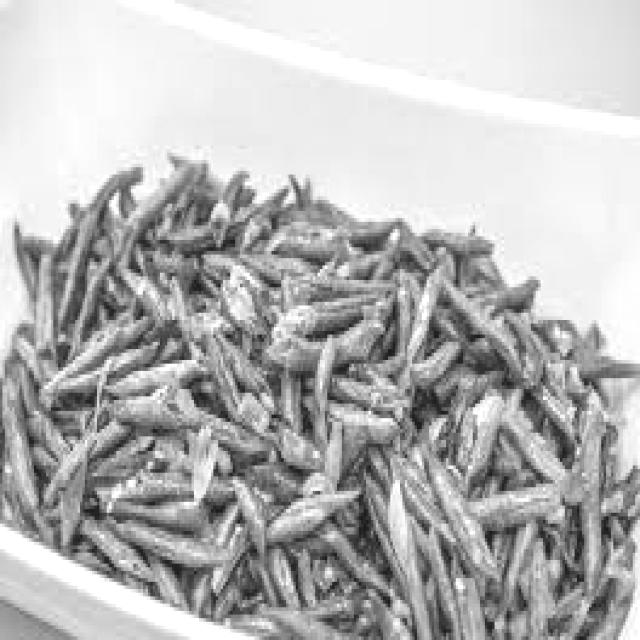kacang_panjang: (0, 152, 635, 640)
